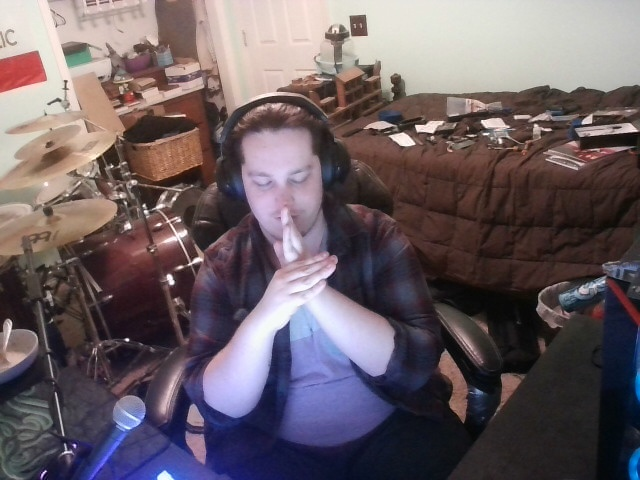quiet: (226, 204, 371, 334)
